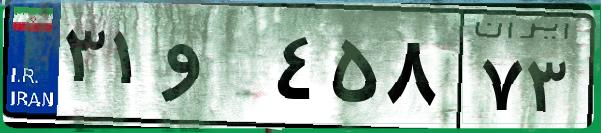1: (110, 28, 158, 98)
3: (57, 26, 110, 100), (525, 38, 570, 115)
4: (270, 28, 330, 110)
5: (330, 28, 385, 110)
7: (475, 38, 525, 113)
8: (385, 28, 445, 110)
و: (158, 20, 270, 120)
